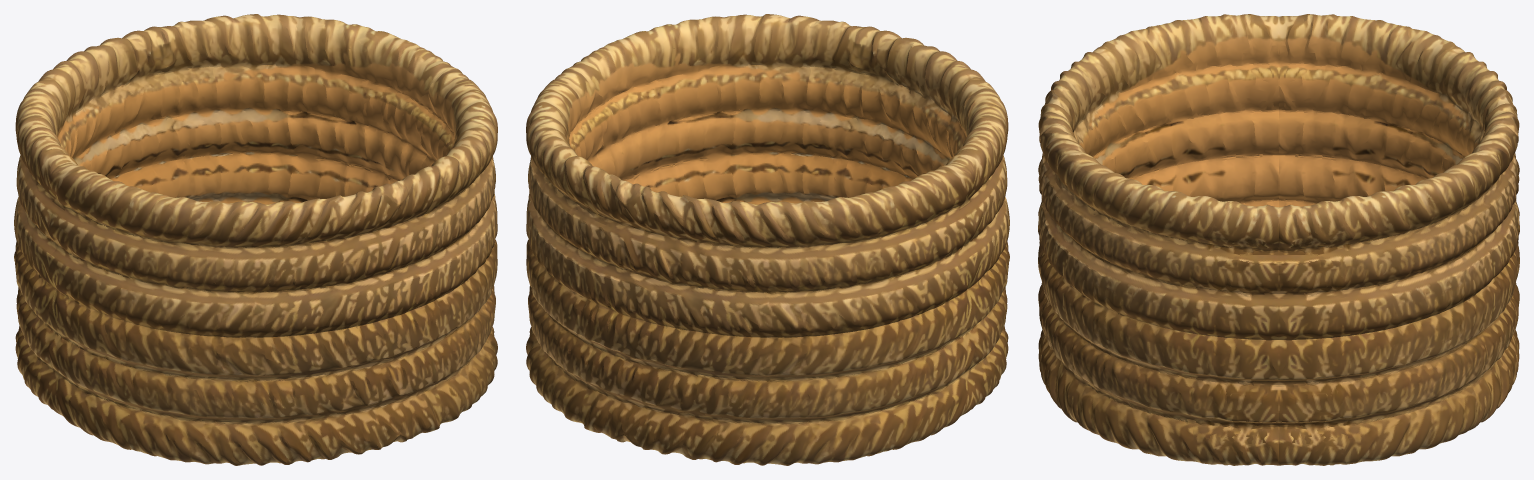
File: Rope.fbx
3 renders of one model, left to right at view 1: azimuth 30°, elevation 25°; view 2: azimuth 150°, elevation 25°; view 3: azimuth 270°, elevation 25°, orthographic.
Parts seen in each view (by area): view 1: Rope; view 2: Rope; view 3: Rope.
Part boxes in pixels (x1,y1,x2,y2): Rope: (14, 14, 497, 465); Rope: (526, 14, 1009, 465); Rope: (1038, 14, 1519, 465).
Bounding box in the file's own units: 188 × 112 × 185.
1 material, 1 textured.
